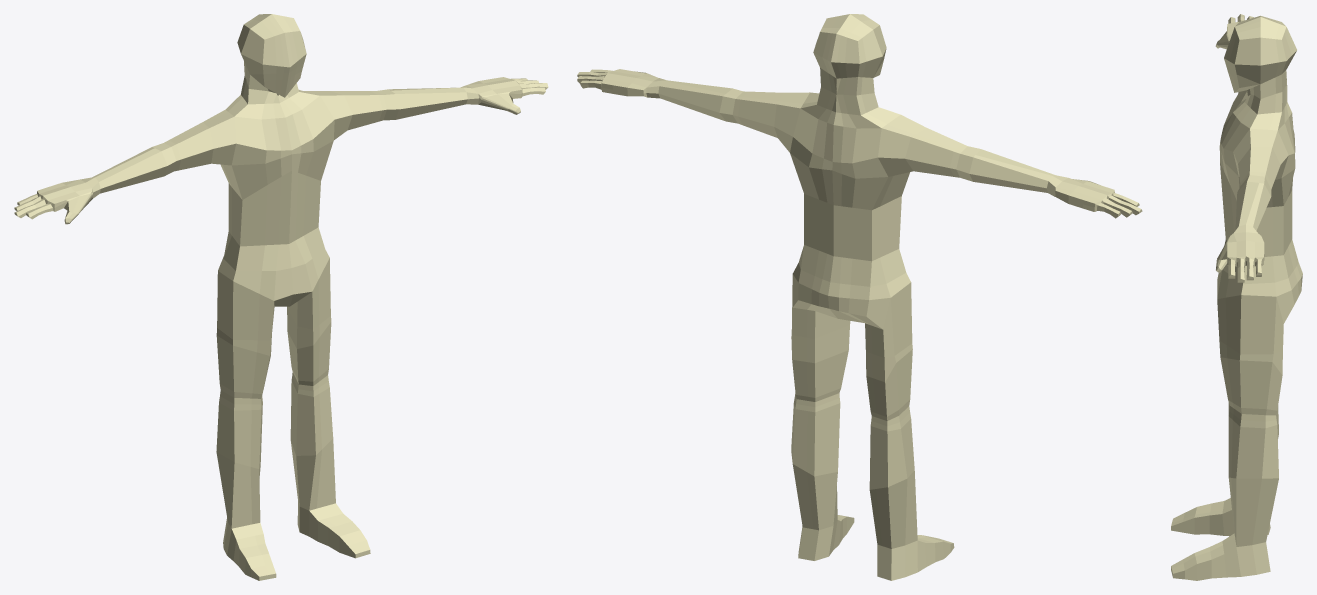
Rendered from Personaje.fbx.
The picture shows the model from 3 angles, left to right: view 1: azimuth 30°, elevation 25°; view 2: azimuth 150°, elevation 25°; view 3: azimuth 270°, elevation 25°; orthographic projection. The views are drawn at different scales.
Parts seen in each view (by area): view 1: S_Personaje; view 2: S_Personaje; view 3: S_Personaje.
Boxes of the visible parts, left/top/right/bottom form: S_Personaje: left=14, top=14, right=548, bottom=580; S_Personaje: left=577, top=14, right=1142, bottom=580; S_Personaje: left=1171, top=14, right=1302, bottom=580.
Size of the model in its own units: 176 by 166 by 36.97.
